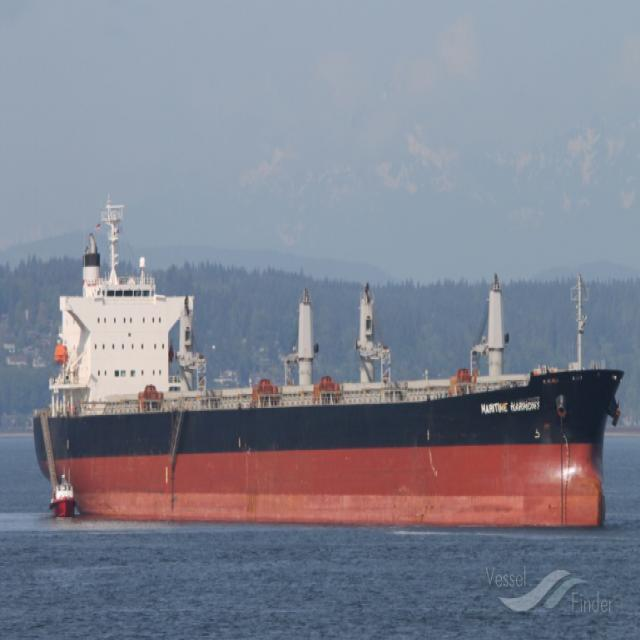OCR: (479, 394, 544, 416)
